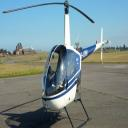helicopter: (2, 1, 112, 127)
